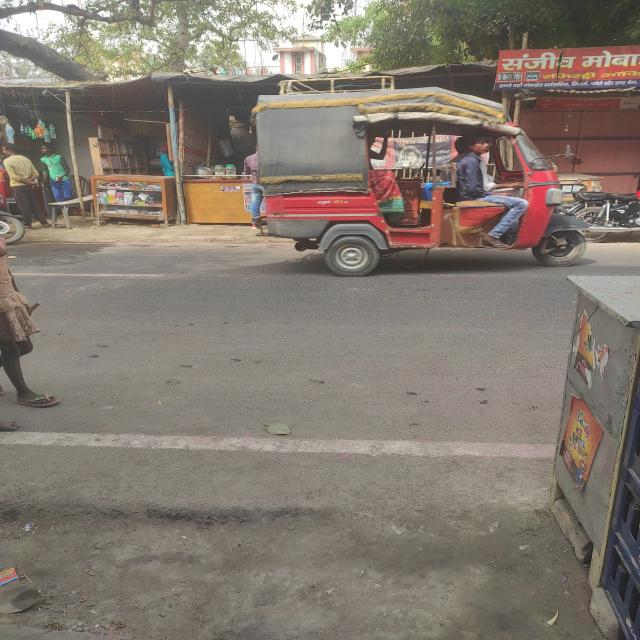Bike: (564, 180, 640, 248), (0, 188, 32, 253)
tempo: (242, 79, 592, 281)
